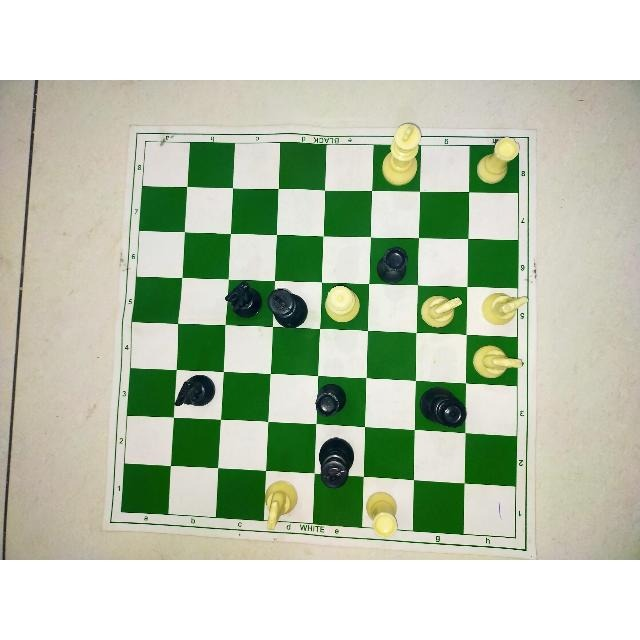black-king: (313, 434, 360, 497), (264, 279, 314, 336)
black-knight: (174, 367, 218, 417), (222, 272, 266, 321)
black-queen: (415, 383, 471, 435)
black-rook: (371, 237, 411, 292), (309, 376, 351, 426)
white-king: (375, 114, 431, 192)
white-knight: (254, 480, 306, 530), (465, 343, 527, 383), (474, 288, 530, 332), (418, 288, 465, 334)
white-queen: (321, 278, 365, 332)
white-rook: (468, 132, 524, 189), (361, 485, 404, 541)
